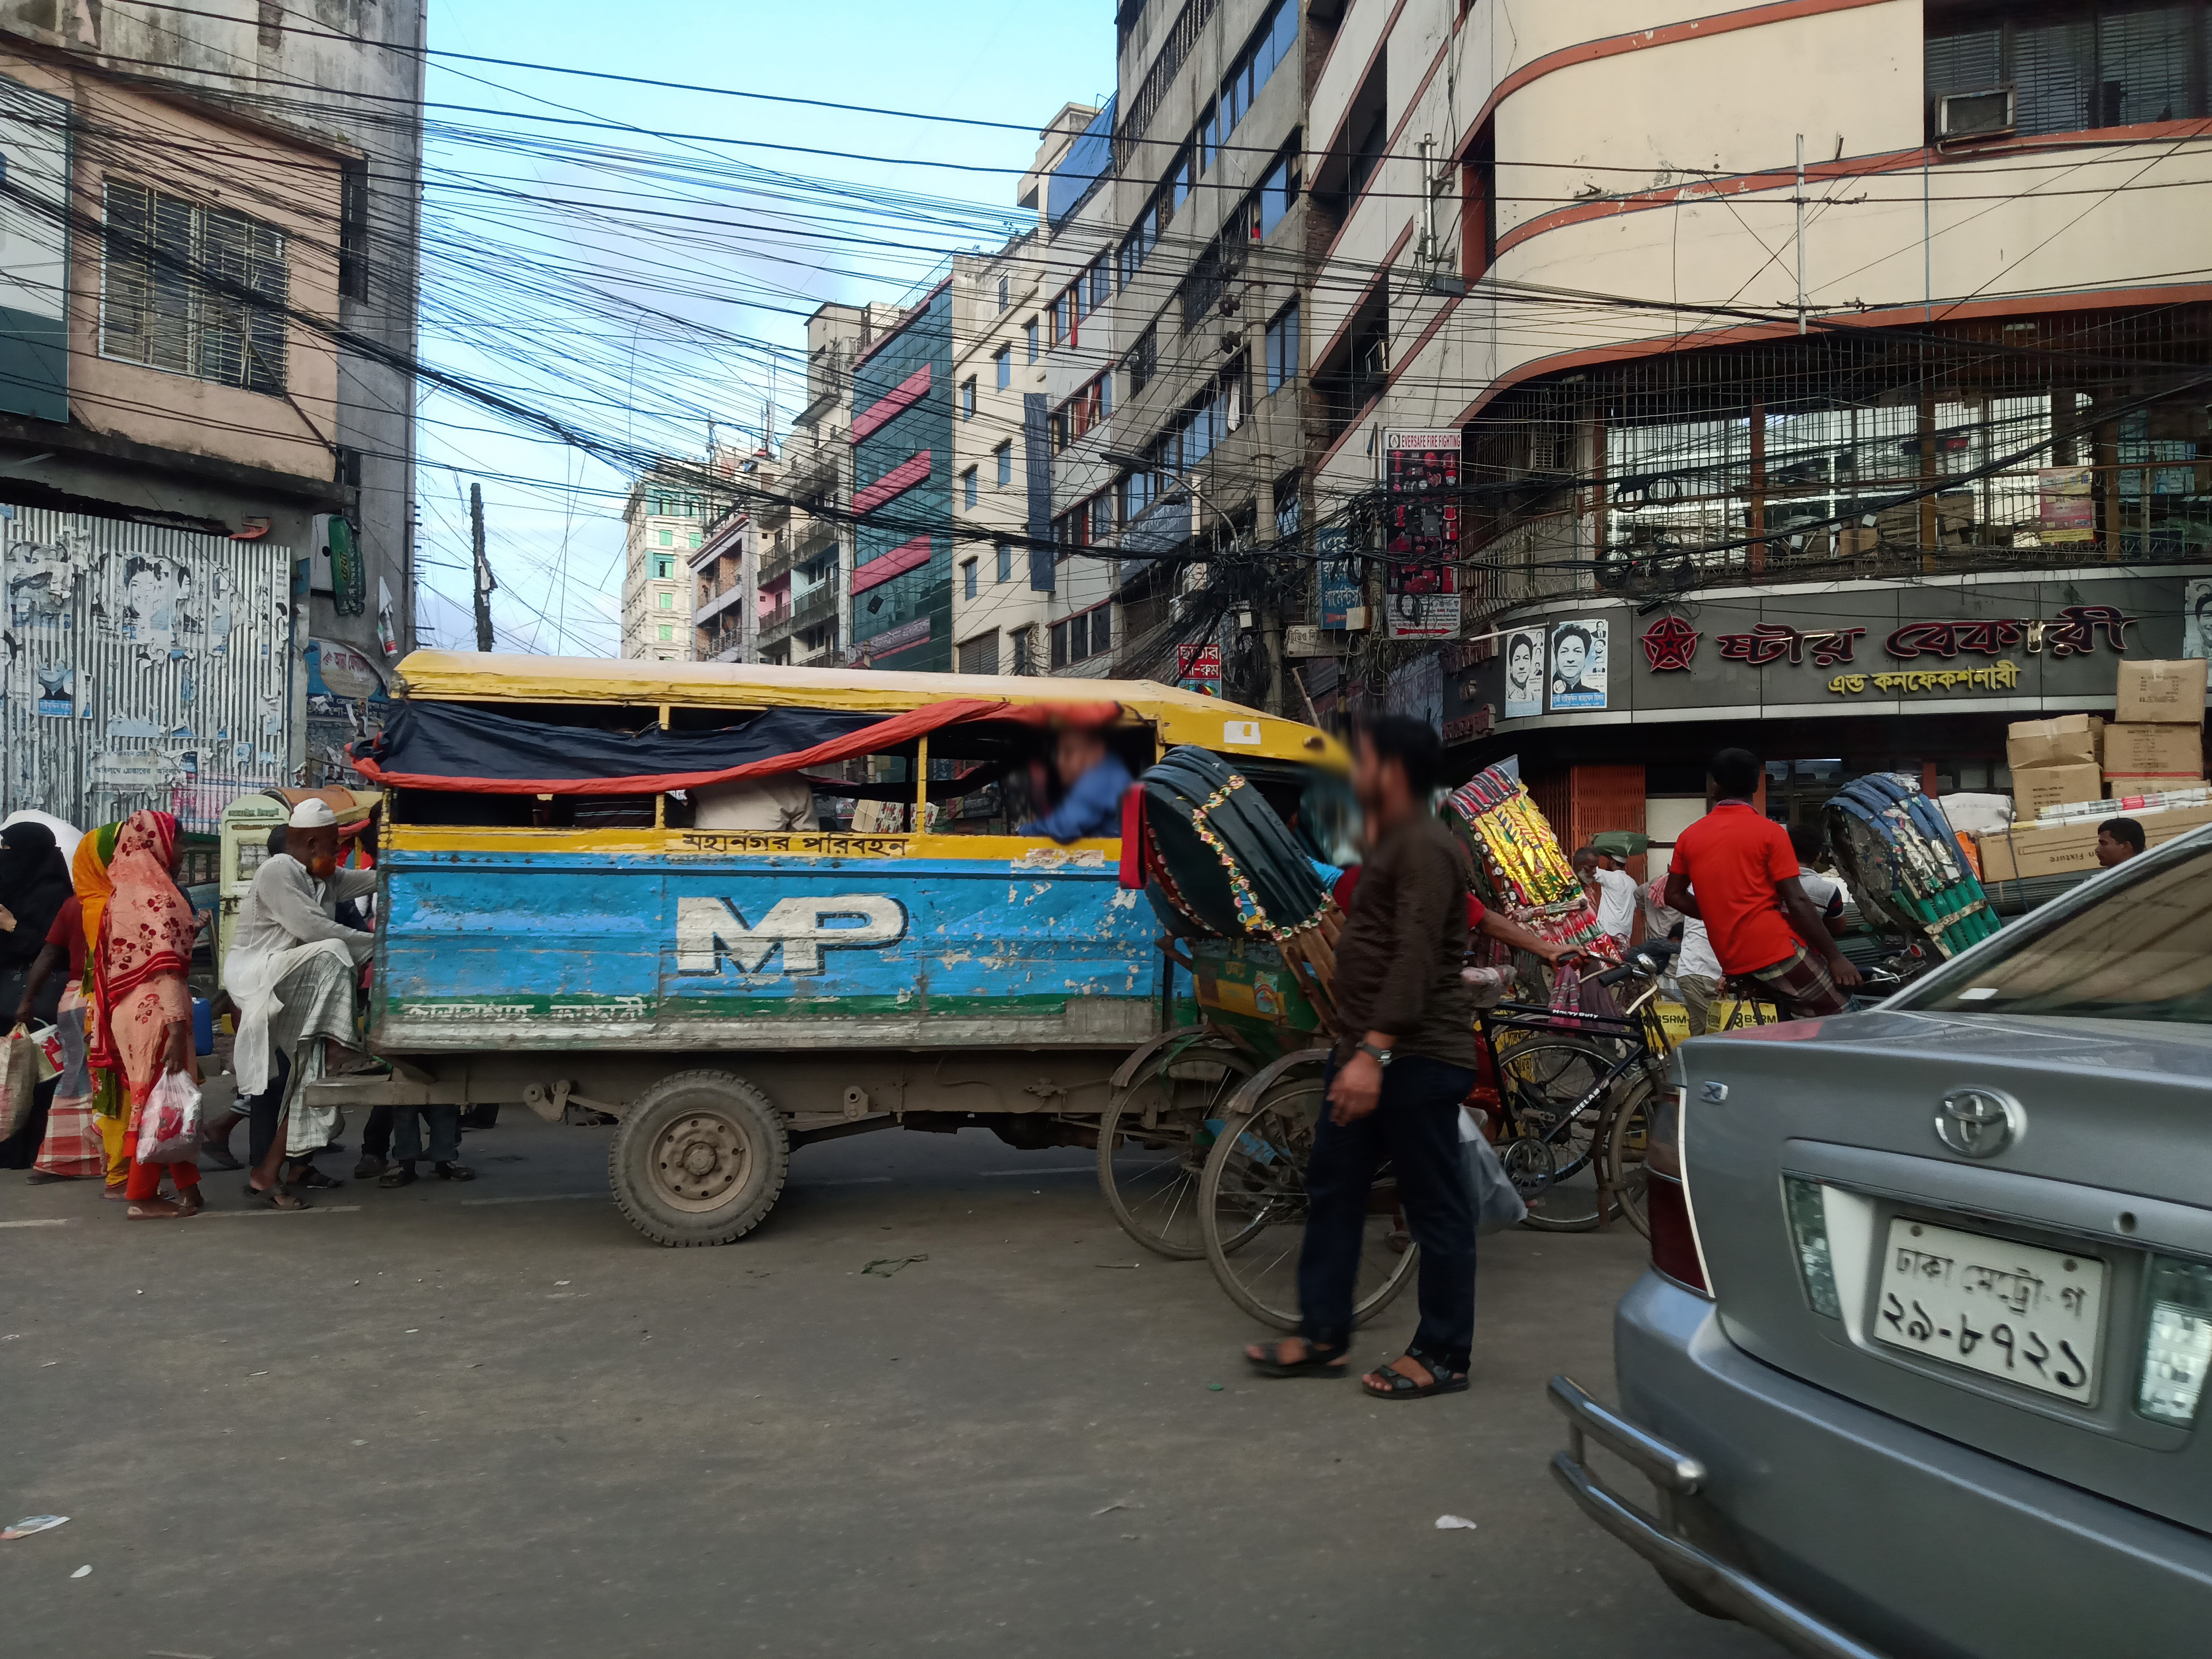car: (1552, 809, 2212, 1659)
leguna: (314, 643, 1353, 1248)
rickshaw: (1094, 751, 1655, 1340), (1440, 758, 1665, 1234), (1820, 767, 2005, 960)
